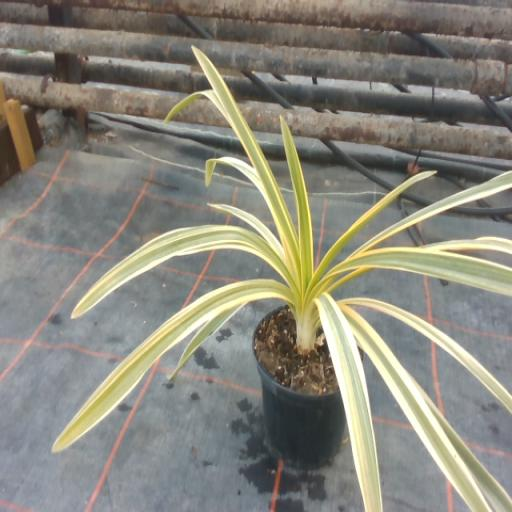Agapanthus-praecox: (52, 279, 290, 450), (340, 306, 490, 511), (193, 46, 299, 284), (73, 225, 290, 315), (338, 300, 511, 412), (308, 171, 435, 291), (315, 294, 381, 511), (358, 171, 511, 250), (421, 391, 511, 511), (331, 246, 511, 294), (282, 117, 313, 290), (168, 306, 242, 378), (212, 205, 282, 252), (206, 157, 269, 207), (425, 237, 511, 254)
